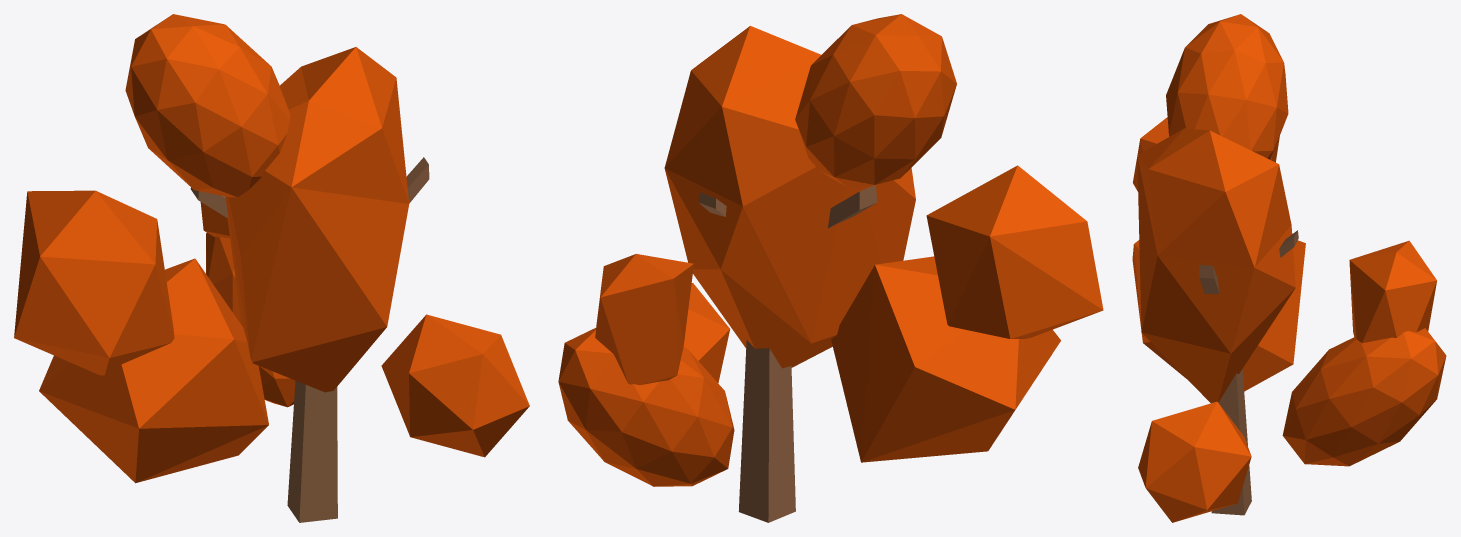
The model's file is tree-autumn-complete-1-001.glb.
3 renders of one model, left to right at view 1: azimuth 30°, elevation 25°; view 2: azimuth 150°, elevation 25°; view 3: azimuth 270°, elevation 25°, orthographic. The views are drawn at different scales.
Parts seen in each view (by area): view 1: TREE 1.003_381, TREE 1.002_382; view 2: TREE 1.003_381, TREE 1.002_382; view 3: TREE 1.003_381, TREE 1.002_382.
Boxes of the visible parts, x1,y1,x2,y2 form: TREE 1.003_381: (14, 14, 529, 483); TREE 1.002_382: (190, 157, 429, 522); TREE 1.003_381: (558, 14, 1103, 486); TREE 1.002_382: (698, 185, 877, 522); TREE 1.003_381: (1132, 14, 1446, 522); TREE 1.002_382: (1199, 230, 1298, 515).
Bounding box in the file's own units: 1.17 × 1.19 × 0.7756.
